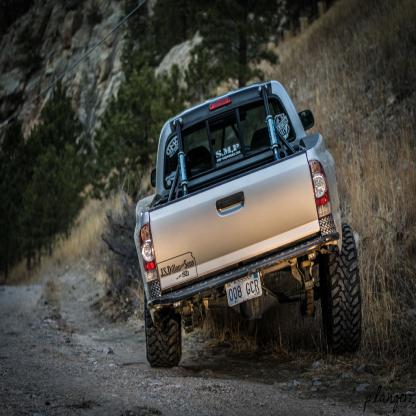Car: (134, 80, 362, 368)
Truck: (134, 79, 362, 369)
